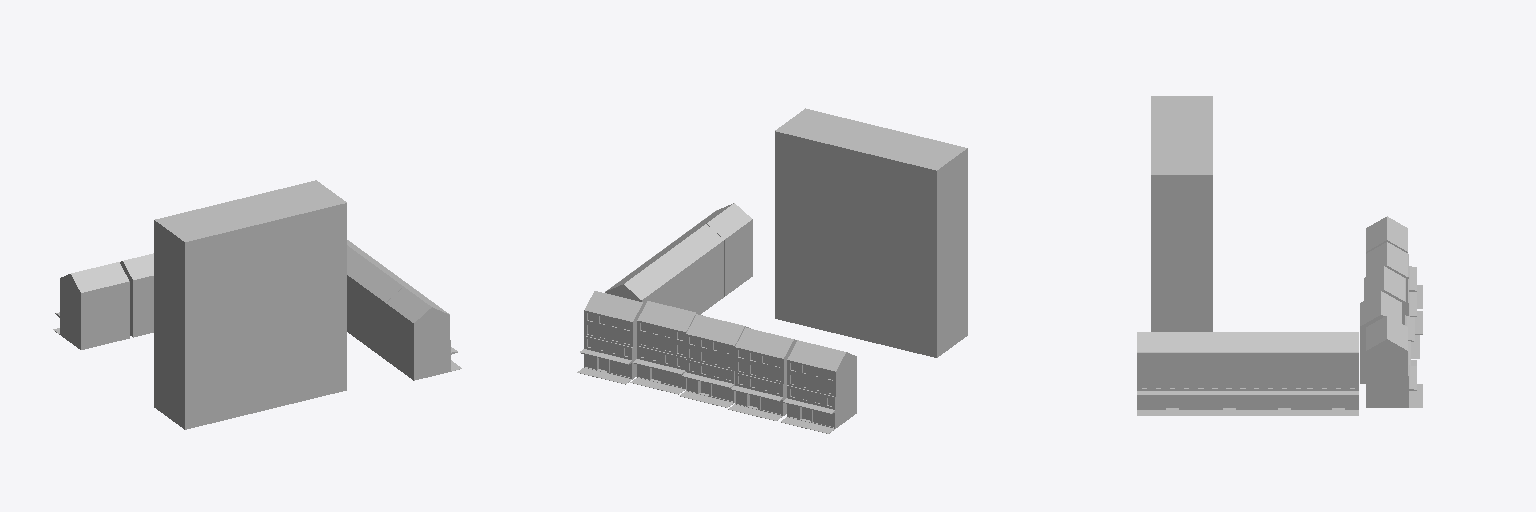
File: plaza.obj
3 views of the same model, side by side, from view 1: azimuth 30°, elevation 25°; view 2: azimuth 150°, elevation 25°; view 3: azimuth 270°, elevation 25° (orthographic).
Parts seen in each view (by area): view 1: Plane.133, Plane.083, Plane.072, Plane.075, Plane.067, Plane.074; view 2: Plane.133, Plane.083, Plane.064, Plane.067, Plane.066, Plane.065, Plane.072, Plane.075, Plane.074, Plane.073; view 3: Plane.133, Plane.072, Plane.073, Plane.075, Plane.074, Plane.064, Plane.067, Plane.066, Plane.065, Plane.083.
Part boxes in pixels (x1,y1,x2,y2): Plane.133: (154, 180, 346, 429); Plane.083: (53, 262, 129, 349); Plane.072: (386, 287, 461, 380); Plane.075: (357, 266, 420, 359); Plane.067: (120, 253, 153, 337); Plane.074: (347, 246, 392, 339); Plane.133: (775, 108, 967, 357); Plane.083: (781, 340, 856, 433); Plane.064: (577, 291, 645, 384); Plane.067: (728, 327, 796, 420); Plane.066: (680, 314, 750, 407); Plane.065: (630, 301, 702, 394); Plane.072: (689, 203, 752, 296); Plane.075: (662, 224, 723, 313); Plane.074: (633, 244, 696, 312); Plane.073: (605, 264, 669, 305); Plane.133: (1151, 96, 1212, 331); Plane.072: (1137, 332, 1193, 415); Plane.073: (1303, 332, 1358, 415); Plane.075: (1194, 332, 1249, 415); Plane.074: (1249, 332, 1305, 415); Plane.064: (1366, 316, 1422, 407); Plane.067: (1366, 242, 1422, 334); Plane.066: (1364, 266, 1419, 358); Plane.065: (1360, 291, 1416, 383); Plane.083: (1366, 216, 1422, 308).
Size of the model in its own units: 44.6 by 29.52 by 40.68.